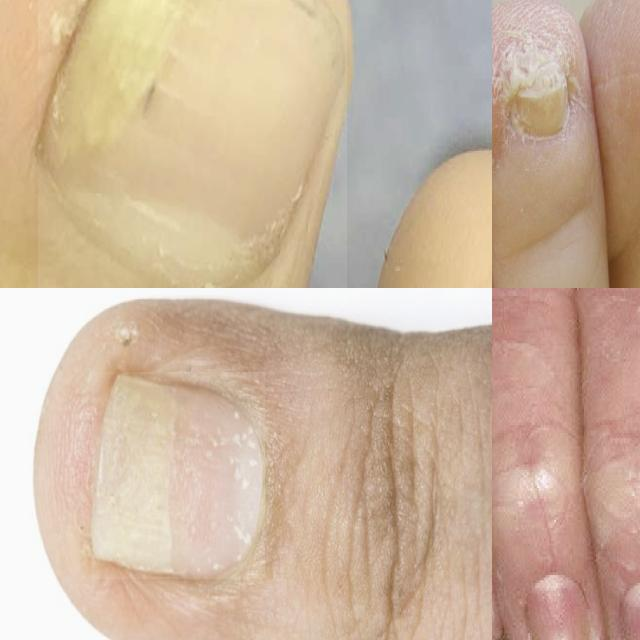diabetes: (38, 0, 347, 288), (92, 373, 265, 579), (520, 571, 589, 640), (514, 75, 570, 137)
